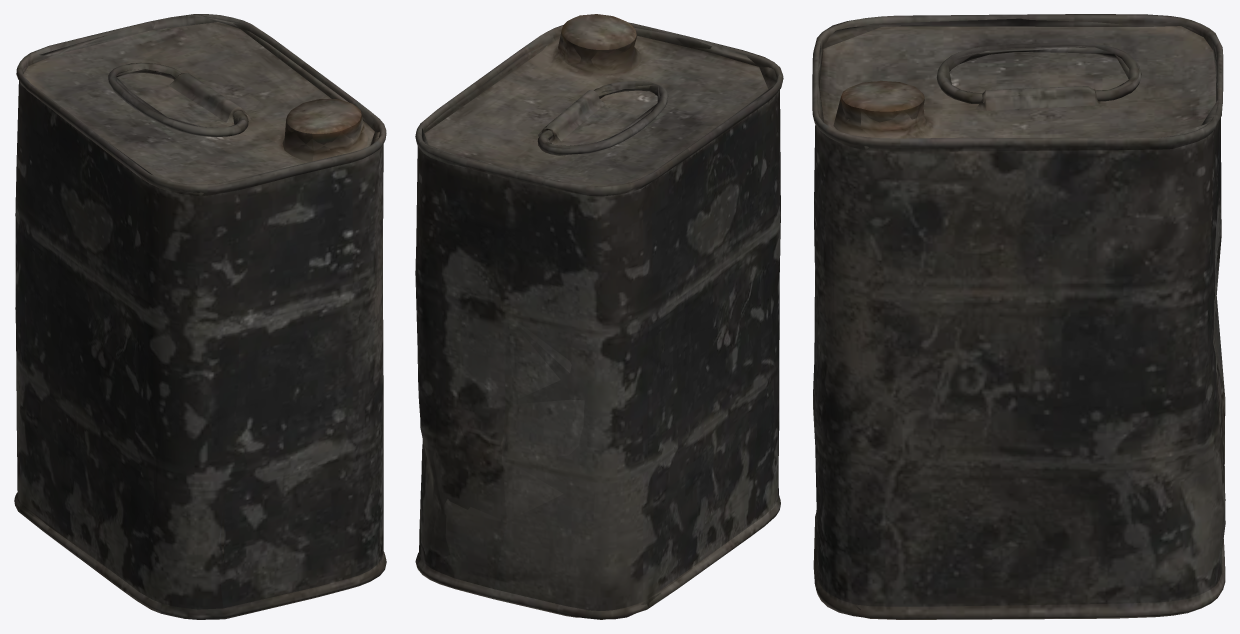
File: oil_tin.glb
The picture shows the model from 3 angles, left to right: view 1: azimuth 30°, elevation 25°; view 2: azimuth 150°, elevation 25°; view 3: azimuth 270°, elevation 25°; orthographic projection. The views are drawn at different scales.
Visible parts, largest first — view 1: oil_tin, oil_tin_lo; view 2: oil_tin, oil_tin_lo; view 3: oil_tin, oil_tin_lo.
Part boxes in pixels (bbox=[...]): oil_tin: bbox=[14, 14, 386, 619]; oil_tin_lo: bbox=[18, 14, 379, 619]; oil_tin: bbox=[415, 14, 783, 619]; oil_tin_lo: bbox=[421, 27, 777, 610]; oil_tin: bbox=[812, 14, 1225, 619]; oil_tin_lo: bbox=[815, 18, 1225, 609].
Size of the model in its own units: 0.1147 by 0.2054 by 0.1536.
1 material, 1 textured.
